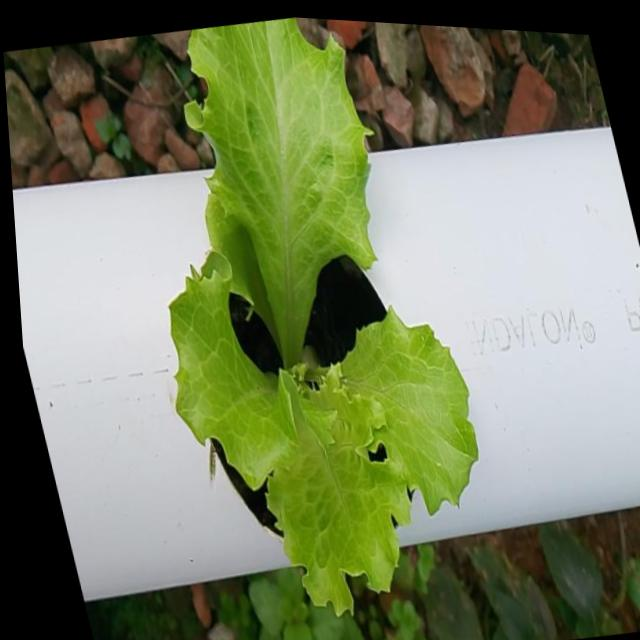Baby: (174, 17, 482, 628)
